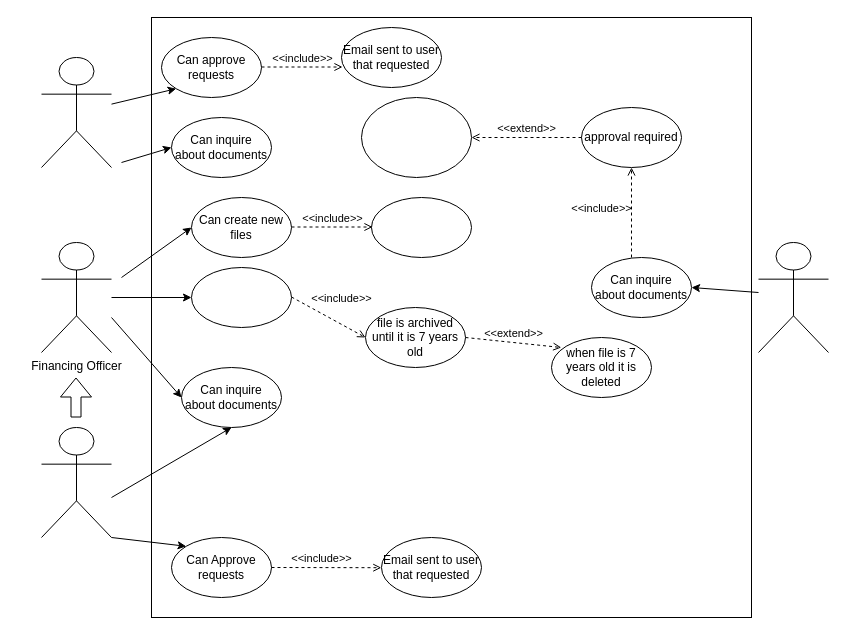
The diagram is 846 pixels wide and 635 high, and some of its shapes have lost their labels. Each missing label, with the box of its shape:
approval request sent by email and put on system: (360, 96, 472, 178)
Can delete files: (190, 266, 292, 328)
Financing Manager: (40, 56, 112, 168)
Head of Financing Department: (40, 426, 112, 538)
Is assigned owner of file: (370, 196, 472, 258)
Other Users: (758, 242, 828, 352)
